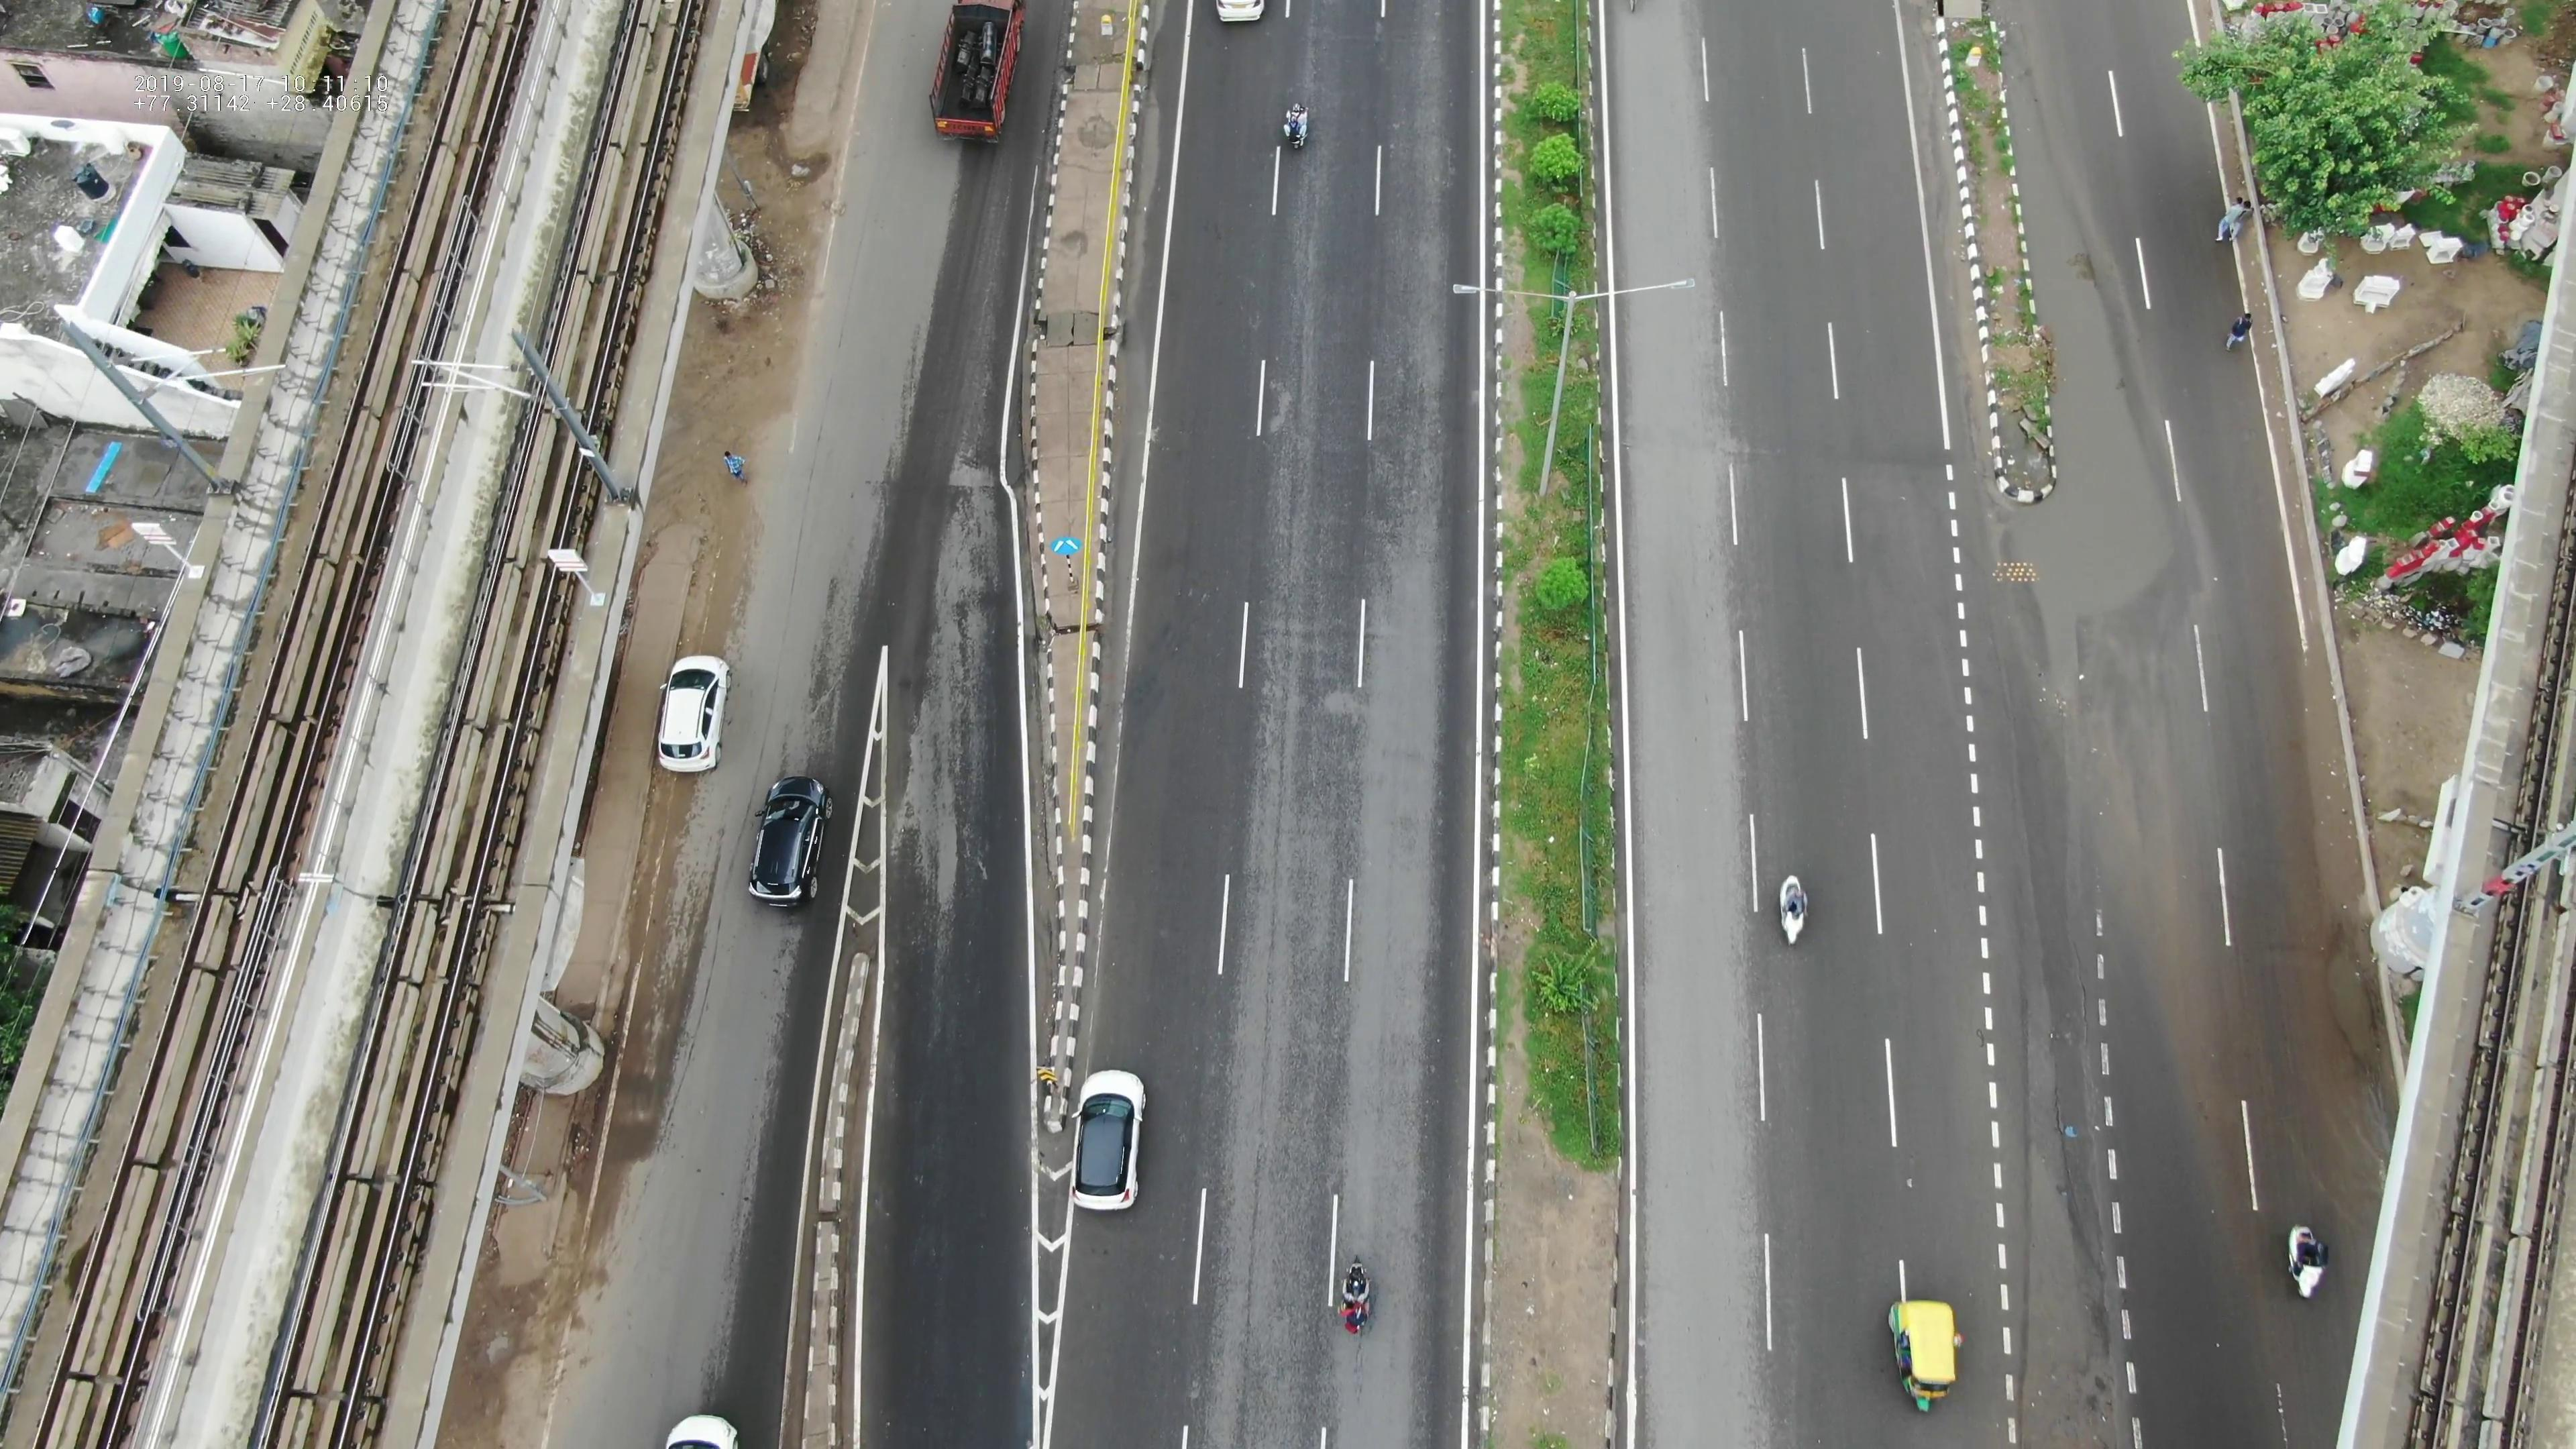Waterlogging: (2013, 150, 2174, 732), (2328, 931, 2388, 1108)
